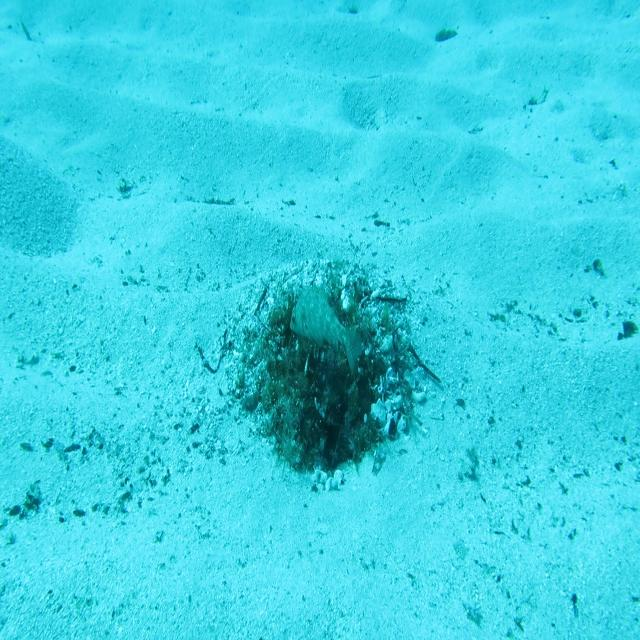NIP_CORE: (289, 283, 363, 381)
core_nest: (287, 321, 343, 354)
nest: (201, 249, 436, 502)
vegetation: (433, 26, 458, 46)
